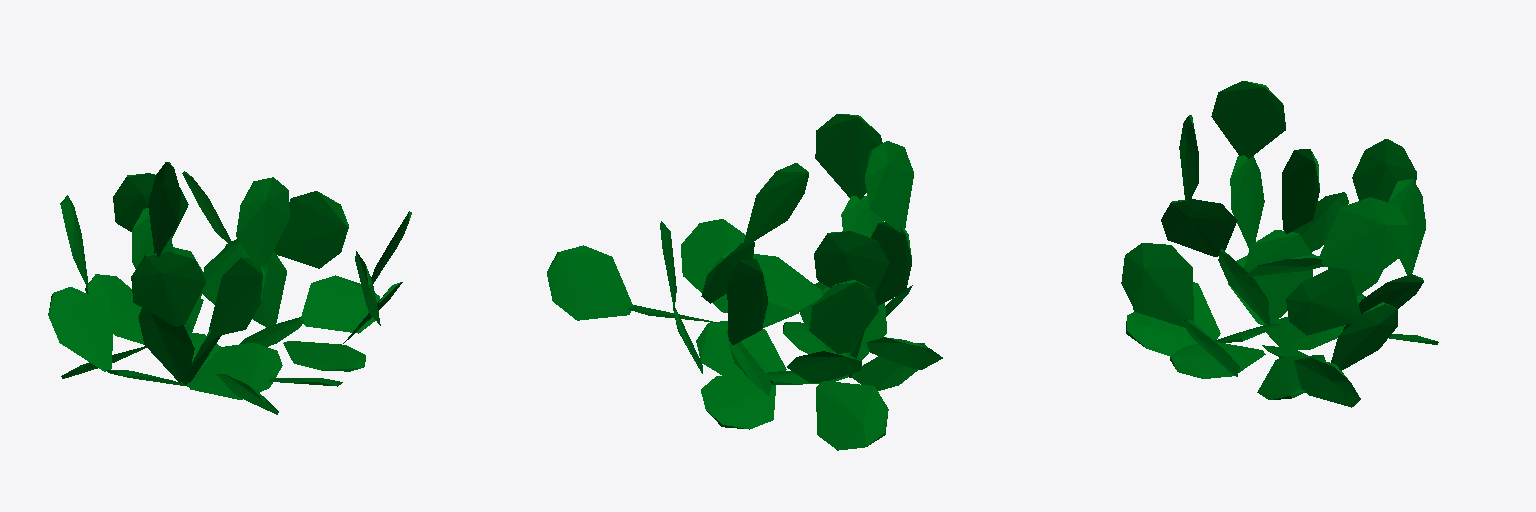
The model's file is PricklyPearCactus_LOD1.obj.
3 views of the same model, side by side, from view 1: azimuth 30°, elevation 25°; view 2: azimuth 150°, elevation 25°; view 3: azimuth 270°, elevation 25° (orthographic).
Parts seen in each view (by area): view 1: PricklyPearCactus_LOD1; view 2: PricklyPearCactus_LOD1; view 3: PricklyPearCactus_LOD1.
Boxes of the visible parts, x1=… form: PricklyPearCactus_LOD1: x1=48, y1=162, x2=411, y2=414; PricklyPearCactus_LOD1: x1=547, y1=114, x2=942, y2=450; PricklyPearCactus_LOD1: x1=1121, y1=81, x2=1438, y2=407.
Bounding box in the file's own units: 174 × 113 × 128.